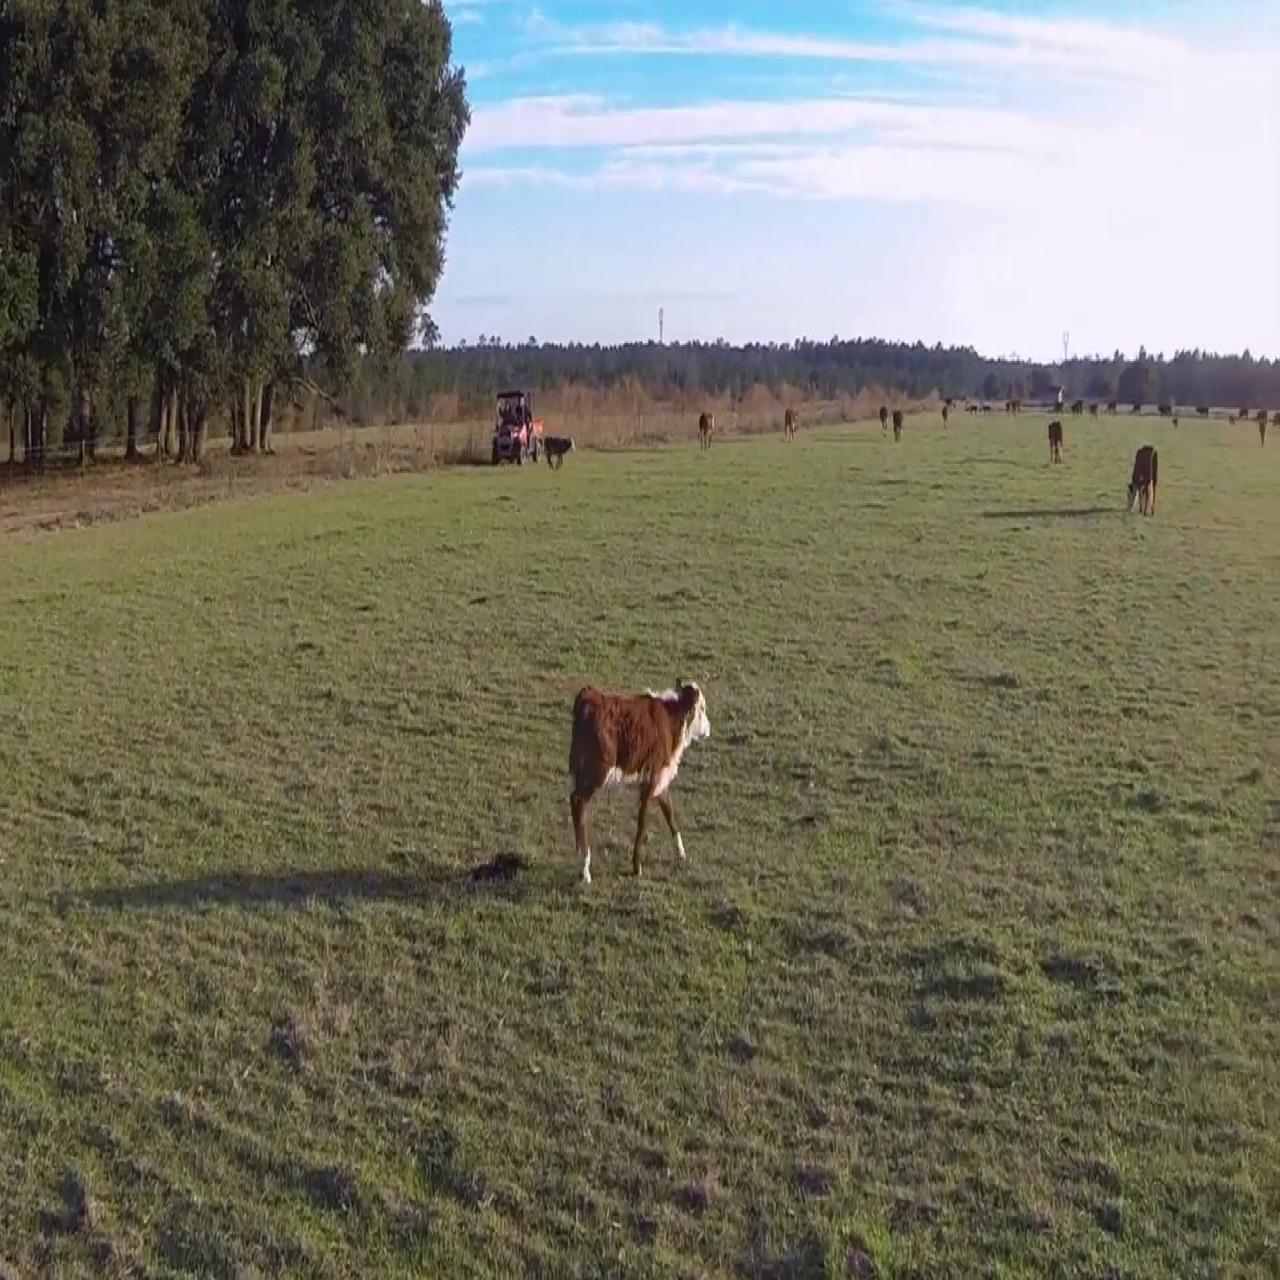cow: (557, 662, 724, 896), (1120, 425, 1166, 522), (538, 431, 576, 476), (695, 402, 720, 464), (776, 398, 801, 455), (1047, 418, 1066, 469)
